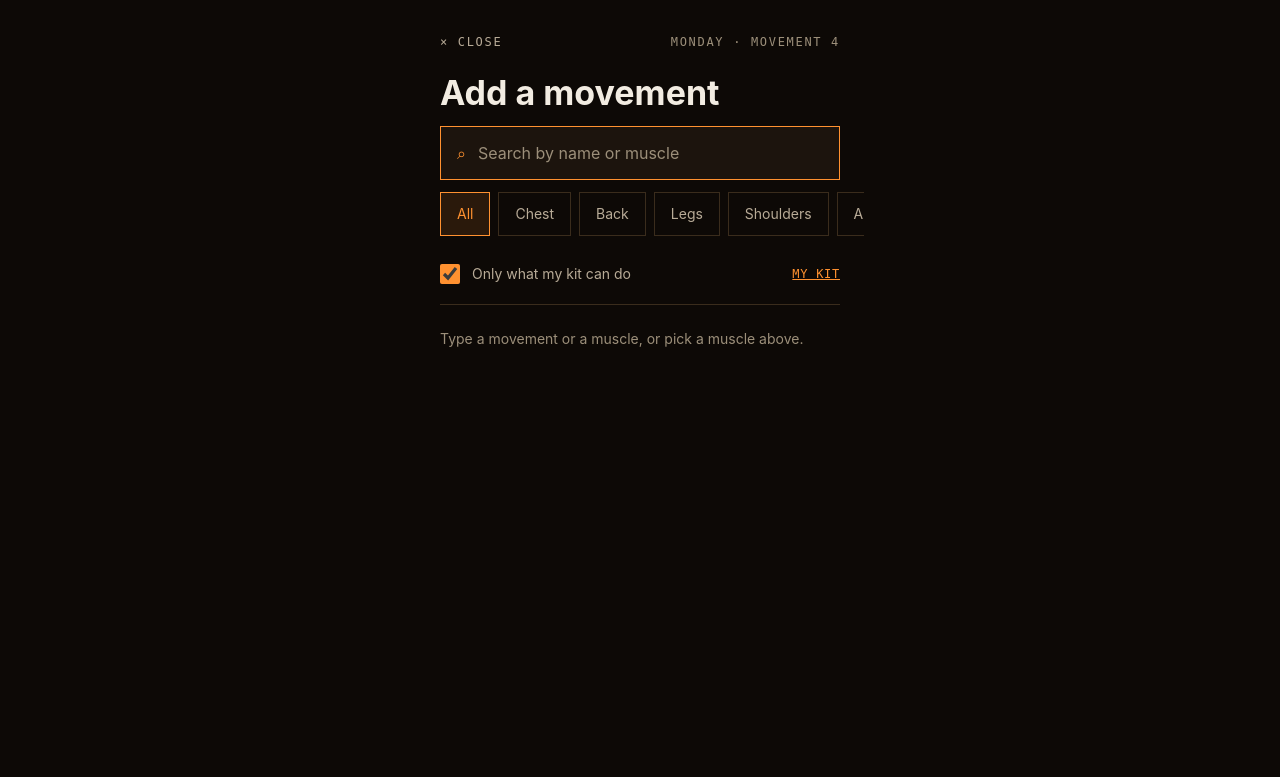
Scenario: the movement picker › adds the missing kit to Settings when the athlete has it after all
The width and height of the screenshot is (1280, 777).
Step 1. Type "barbell bench press" into the field named "Search movements" → (650, 153), box [478,127,823,179]
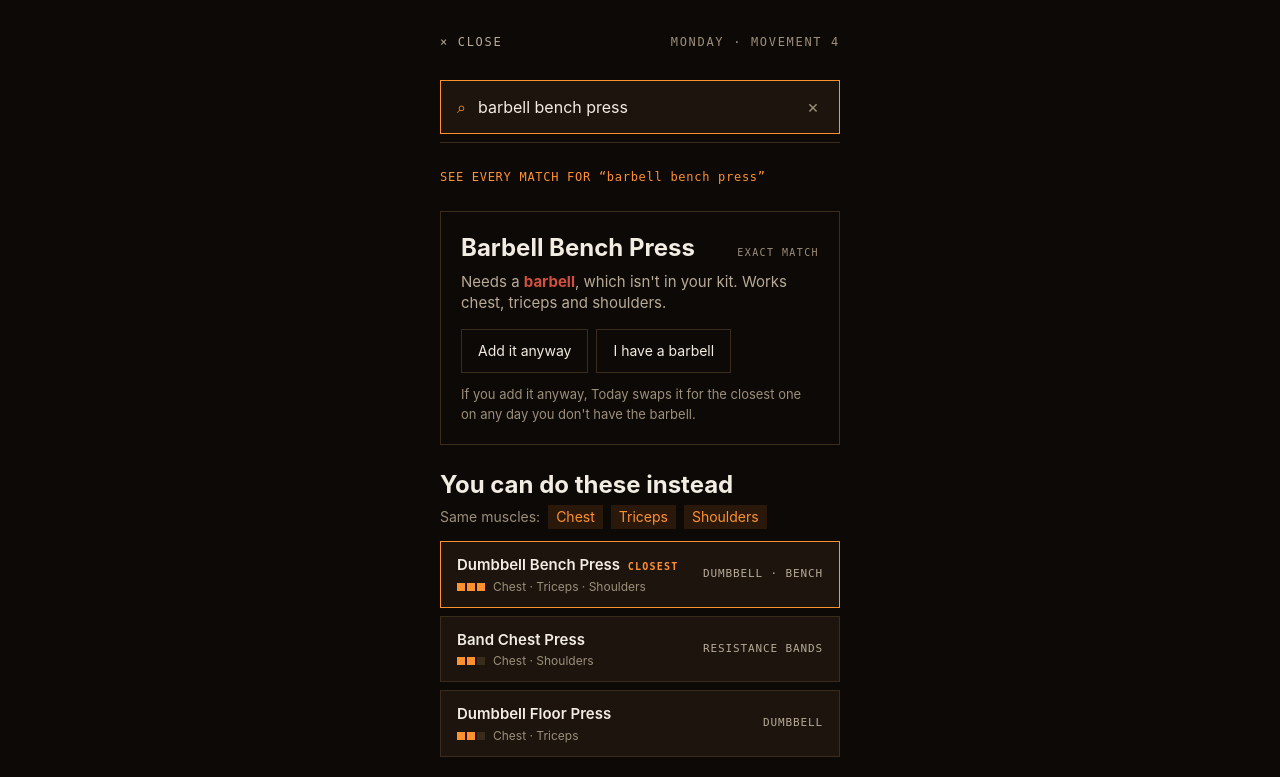
Step 2. Click the button "I have a barbell" → (664, 351), box [596,329,731,373]
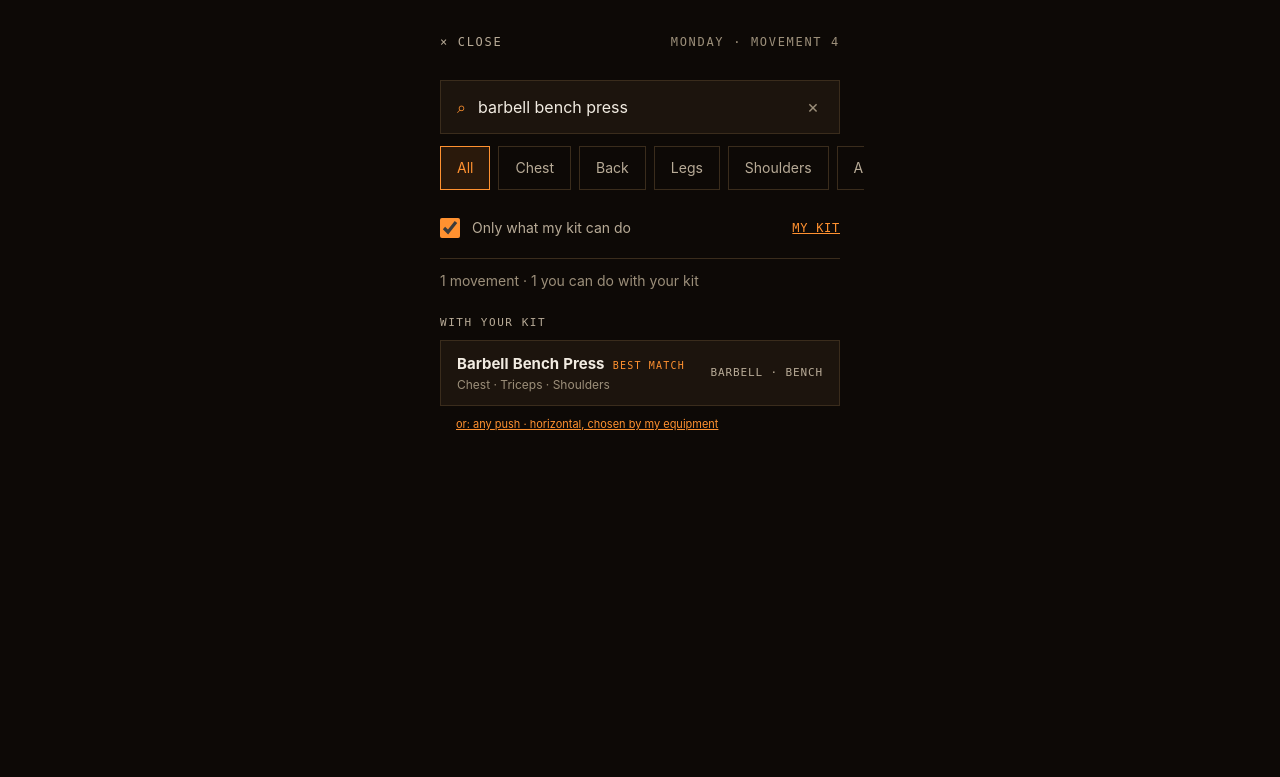
Expected: the button "Barbell Bench Press BEST MATCH" is shown, [440,340,840,406]
